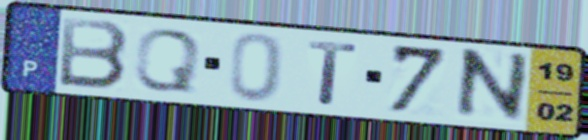0: (225, 30, 288, 105)
7: (384, 42, 451, 116)
B: (55, 14, 132, 92)
N: (450, 46, 533, 125)
Q: (130, 26, 205, 95)
T: (305, 38, 361, 108)
